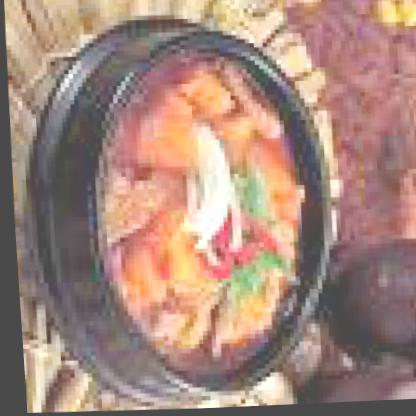Kimchi: (73, 39, 326, 376)
